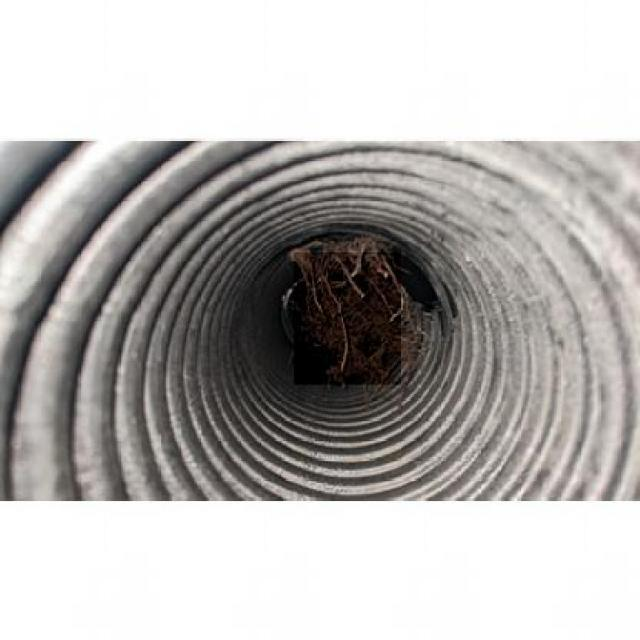root: (296, 250, 433, 389)
